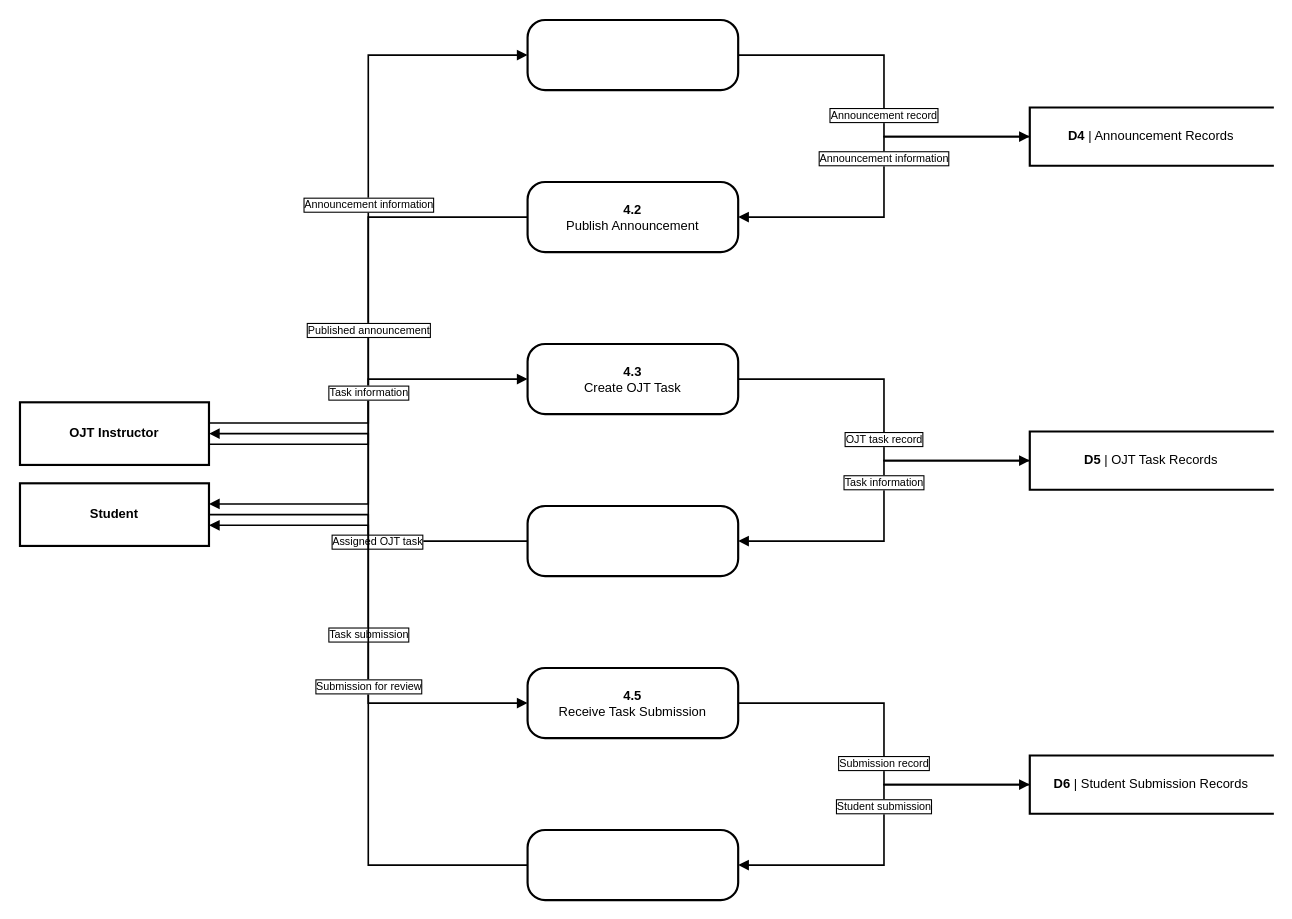
Image size: 1292x919. Some labels were removed from this diagram. Each missing label, with the centre of its shape:
"4.1 Create Announcement" goes at point 632,54.
"4.4 Assign OJT Task" goes at point 632,540.
"4.6 Review Task Submission" goes at point 632,864.
